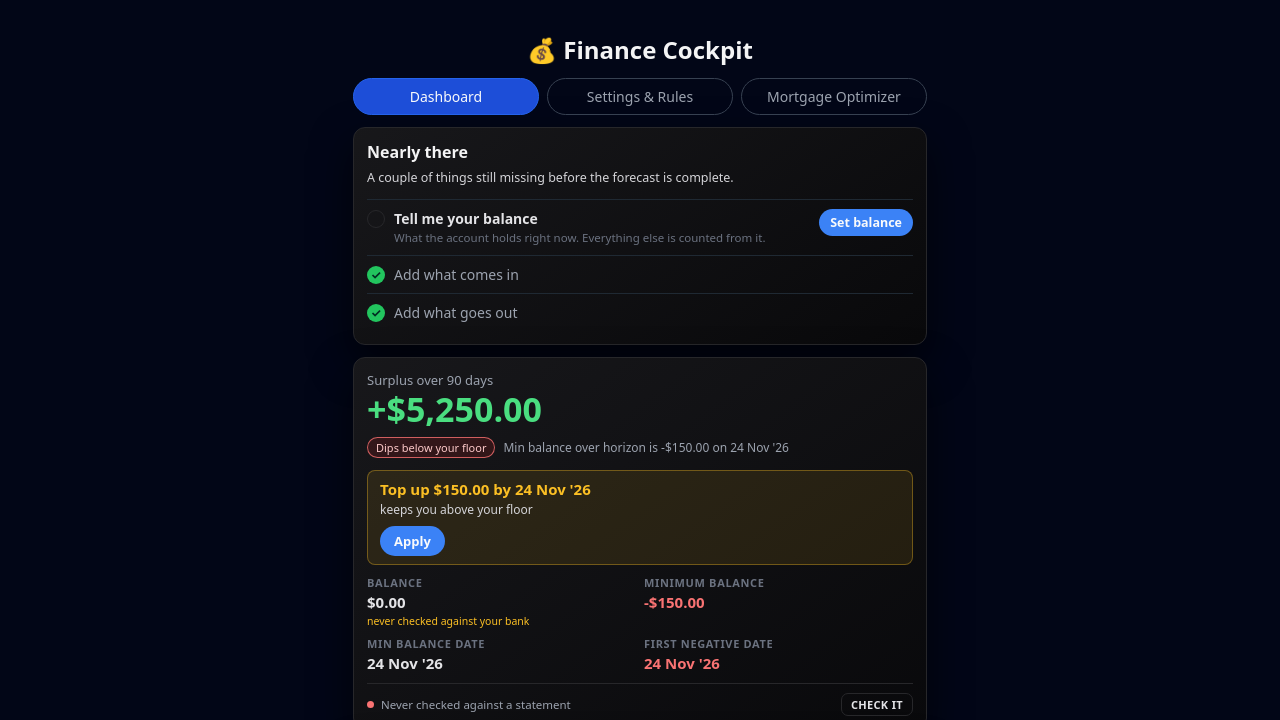
Test: App shell › recording a top-up that the app did not predict › warns when a top-up is not a positive inflow, which coverage would ignore
This screenshot has width=1280, height=720.
Click the button "Settings & Rules".
click(640, 96)  # box [547,78,733,115]
(page scrolled)
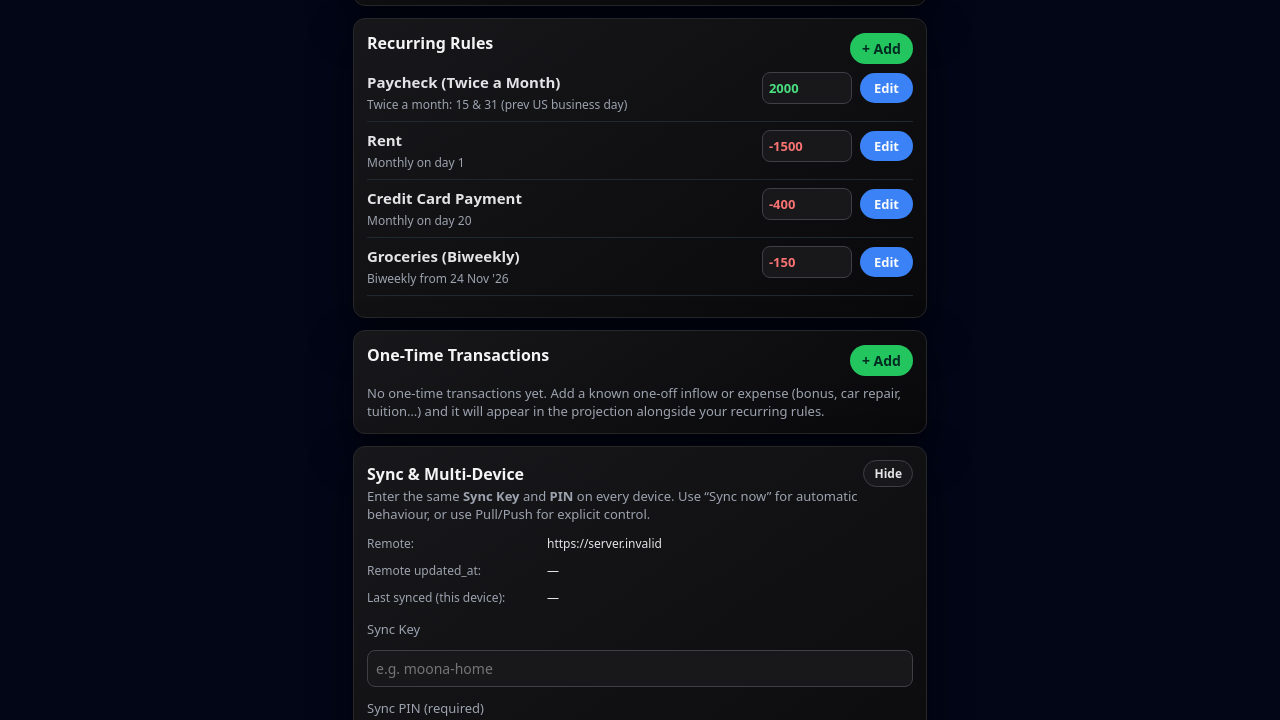
Click the 2nd button "+ Add".
click(882, 360)  # box [850,345,913,376]
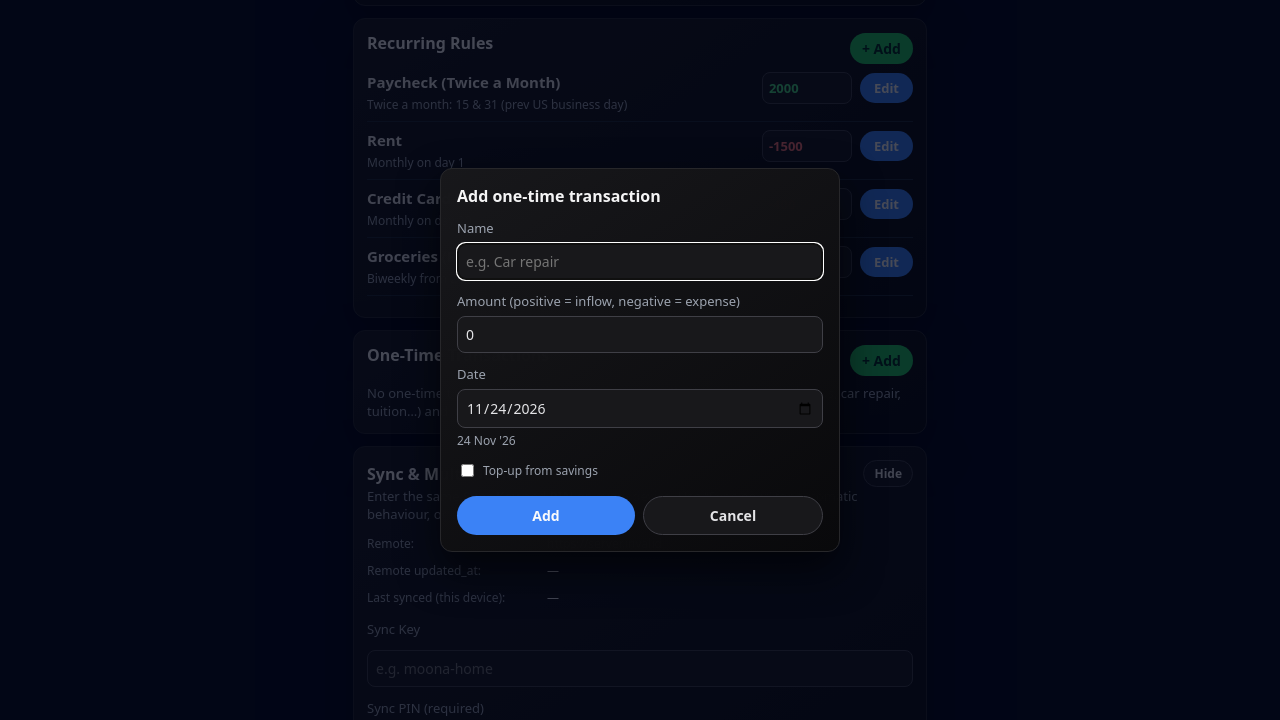
Replace the text in the field named "Transaction amount" with "-500" at (640, 334), box [457,316,823,353]
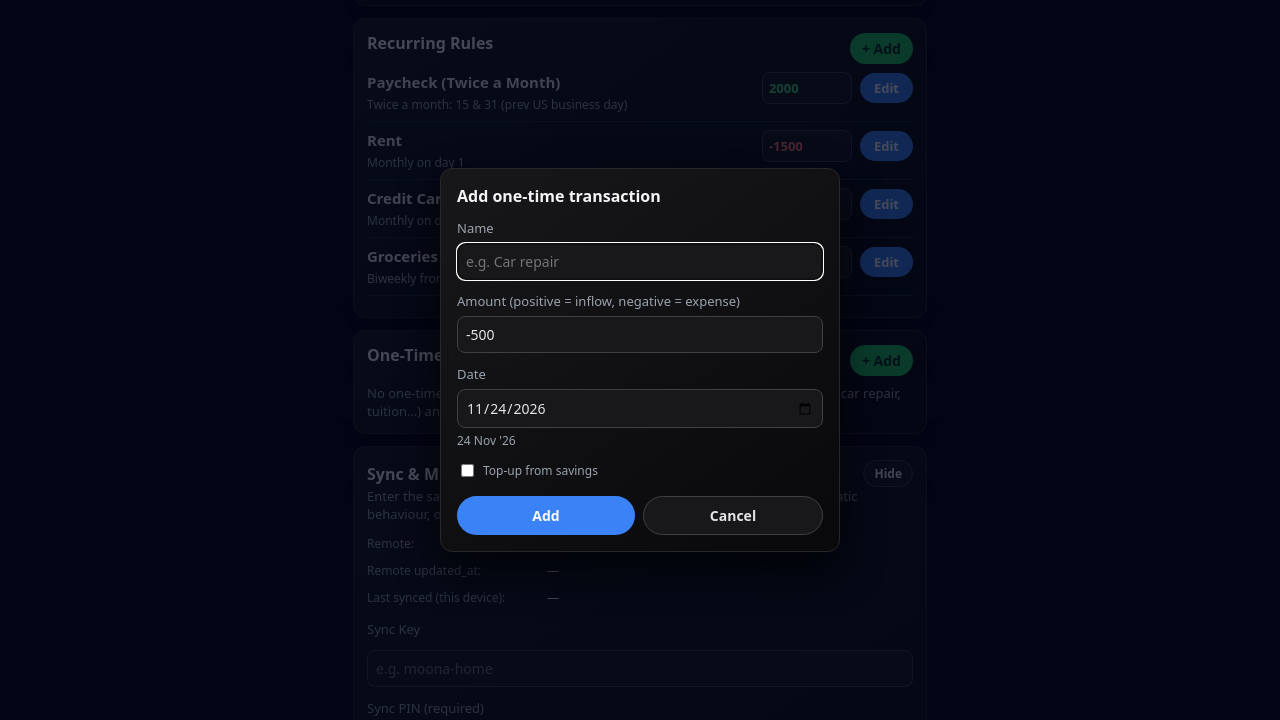
Click the checkbox labelled "Top-up from savings".
click(468, 470)  # box [461,464,474,477]
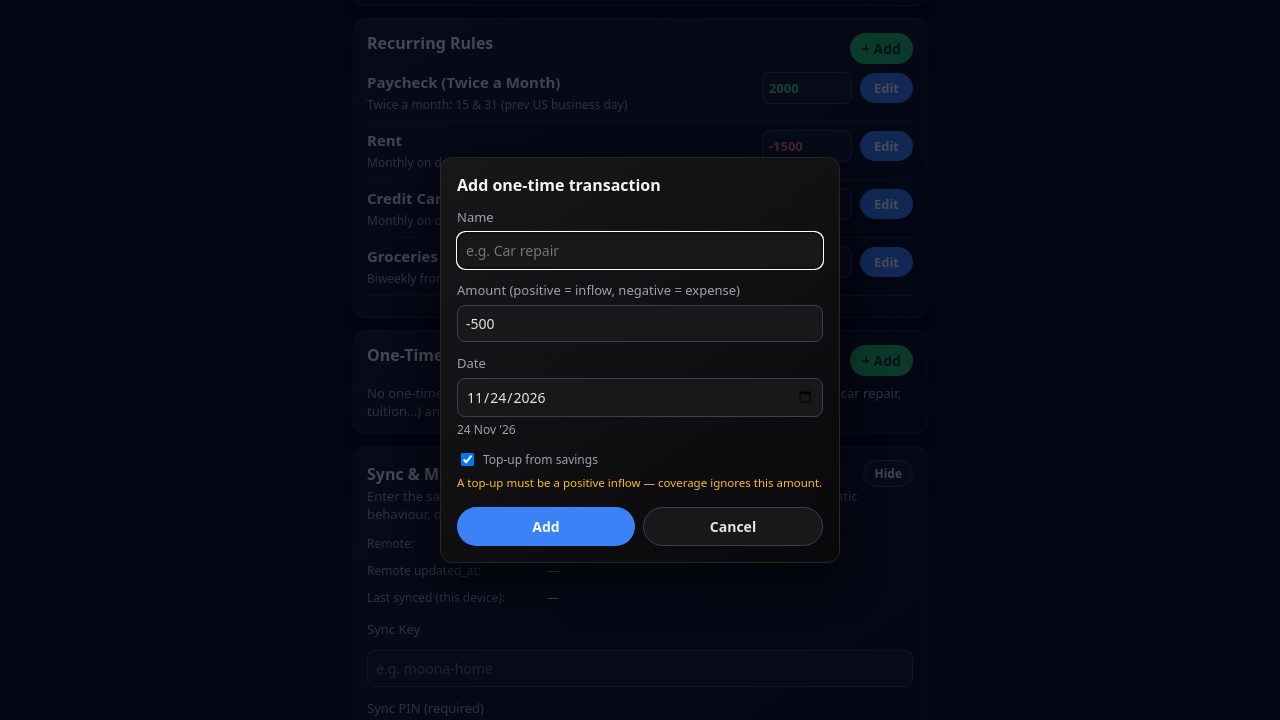
Expected: the text "must be a positive inflow" is shown, [457,475,822,490]
